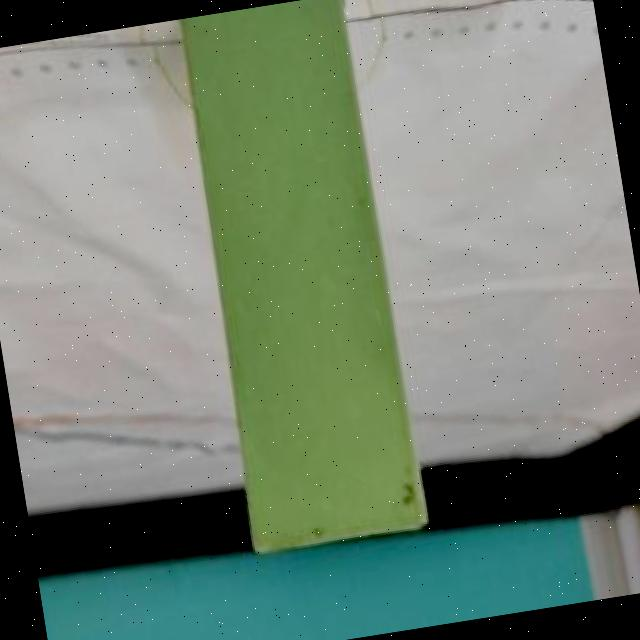greenbox: (178, 0, 429, 553)
